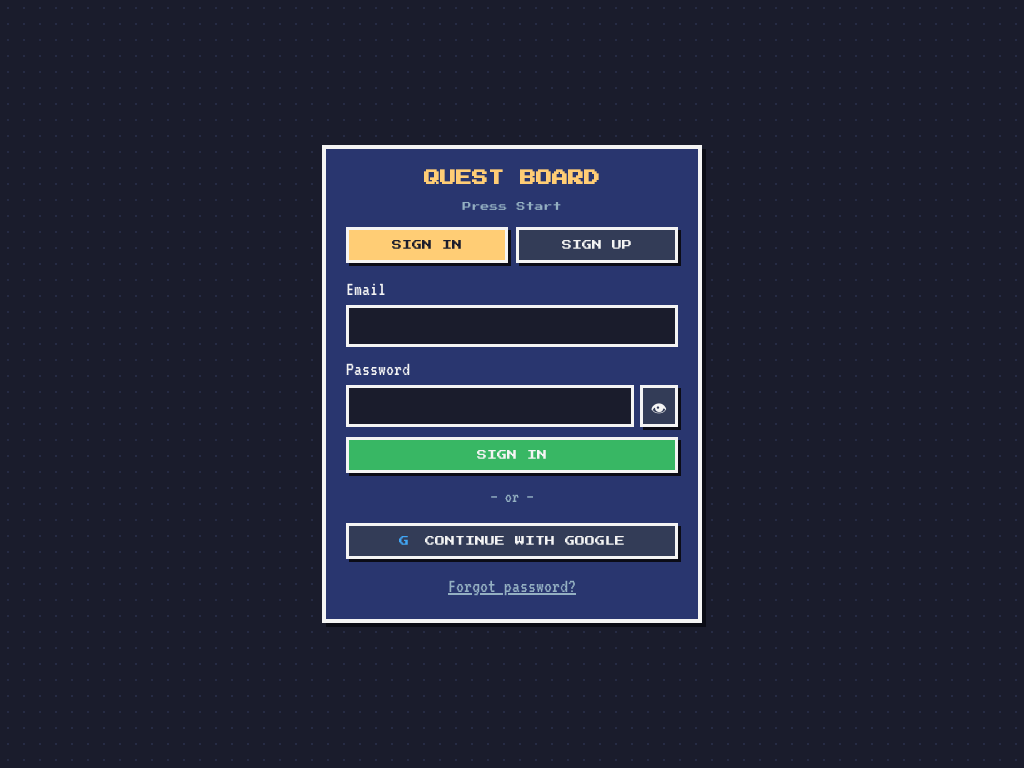
Test: AuthScreen › continues with Google and shows why it could not start
This screenshot has width=1024, height=768.
What coordinates should you click on to do the following:
click the button "G Continue with Google"
I would click on:
 (512, 541)
Its box is [346,523,678,559].
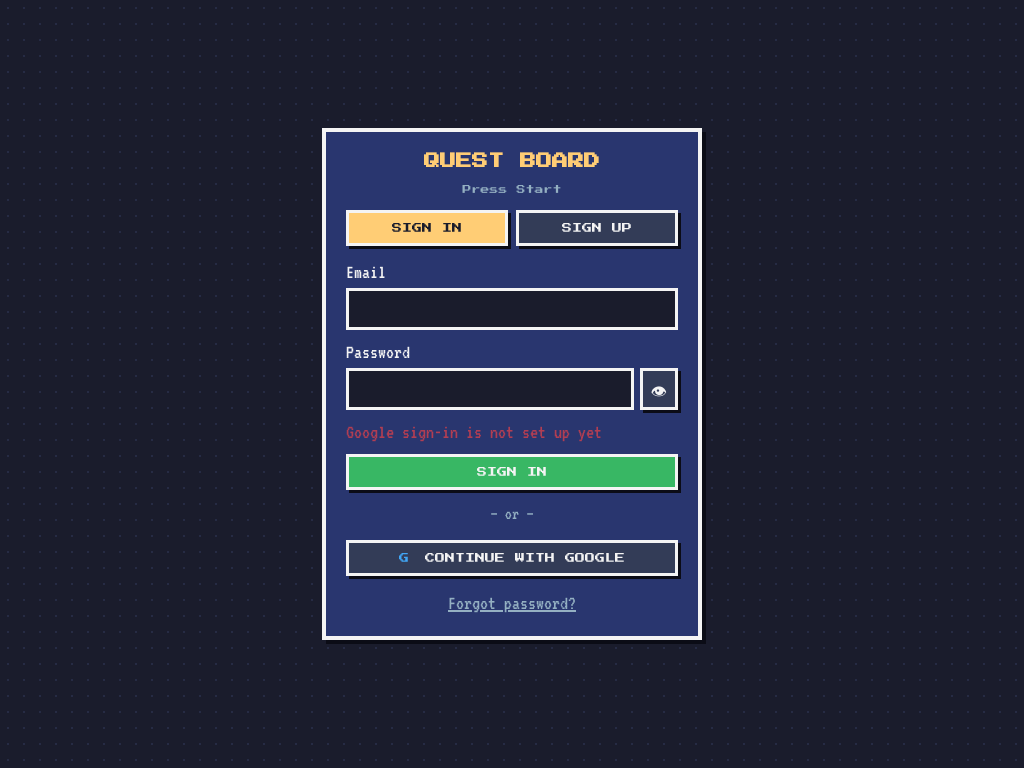
Now the message reads "Google sign-in is not set up yet", box [346,422,602,442]
